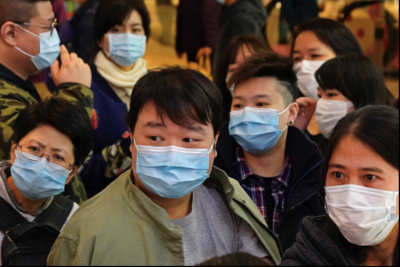with_mask: (322, 160, 397, 249), (131, 119, 211, 199), (9, 136, 73, 199), (226, 92, 280, 154), (291, 45, 335, 99), (105, 19, 146, 67), (312, 86, 349, 138), (29, 14, 59, 72)
